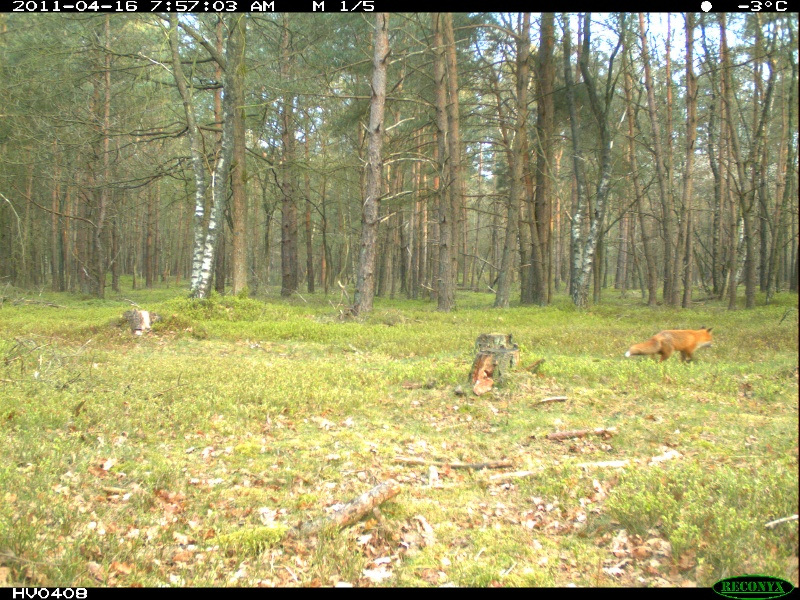fox: (623, 324, 717, 373)
